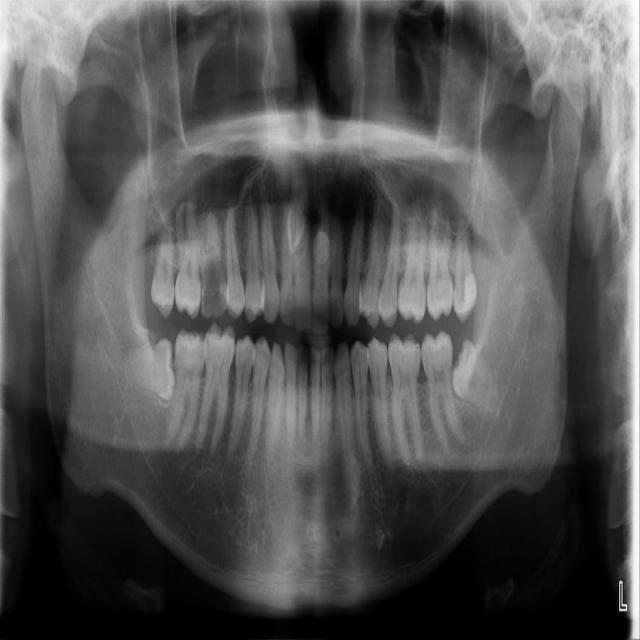3M ESPE Implant: (150, 213, 176, 317)
52: (203, 261, 227, 317), (453, 269, 477, 322)
73: (599, 554, 608, 572)
BioHorizons Implant: (425, 210, 460, 322)
BioLife Implant: (452, 218, 479, 322)
Biomet 3i Implant: (432, 337, 511, 425)
Blue Sky Bio Implant: (418, 330, 462, 443)
Caries: (174, 203, 200, 319)
Implant: (163, 327, 208, 450)
Keystone Dental Implant: (121, 339, 176, 402)
